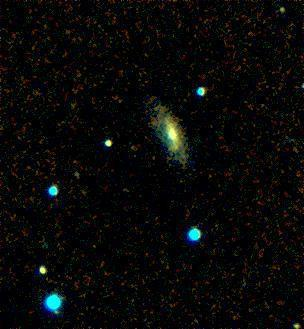star: (48, 298, 78, 328)
